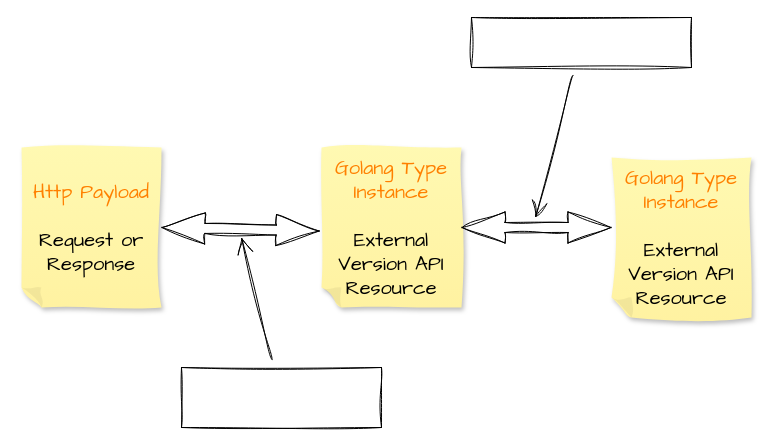
Some shapes in this 774 by 445 pixel diagram are drawn without their labels. The centre of each missing label's shape, as x and y in pixels:
Converter 完成: [581,42]
Serializer 完成: [281,397]
